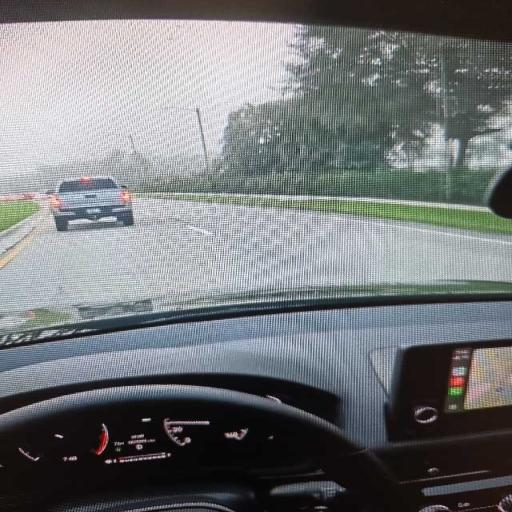car: (0, 0, 511, 511), (48, 177, 134, 231)
lane: (0, 200, 511, 310)
